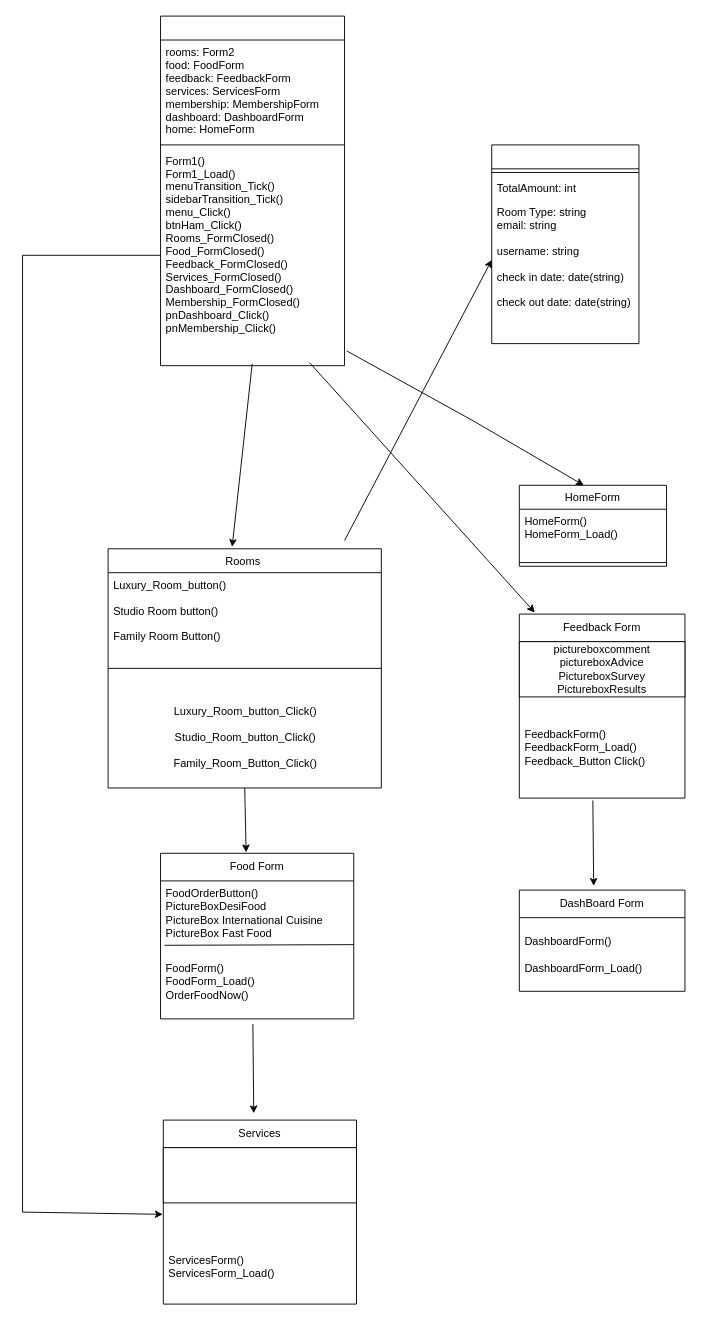
The diagram is 701 pixels wide and 1320 high, and some of its shapes have lost their labels. The box of each missing label's shape, as (x1, y1, x2, y2) in pixels:
LaundaryButton() CarwashingButton() CityTour() MassageServiceButton(): (162, 1147, 356, 1203)
Navigation Bar Form/ Main Form: (160, 15, 345, 366)
Room Booking: (491, 144, 639, 344)
